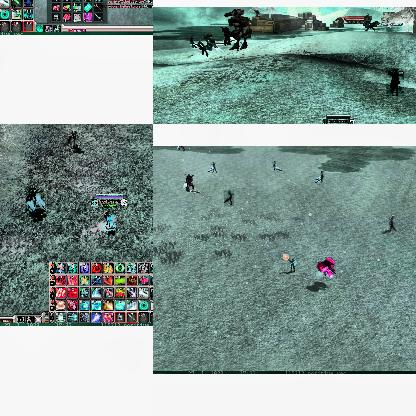caliana: (386, 68, 404, 96), (26, 188, 44, 214), (66, 129, 78, 147), (224, 190, 234, 206), (388, 214, 396, 232), (314, 170, 324, 184), (272, 160, 282, 172), (189, 34, 197, 48), (207, 161, 216, 173)
